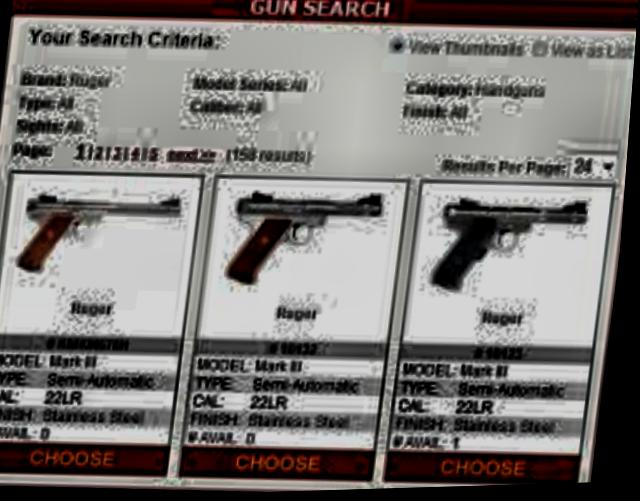pistol: (218, 181, 387, 293), (431, 189, 593, 304), (16, 180, 188, 280)
